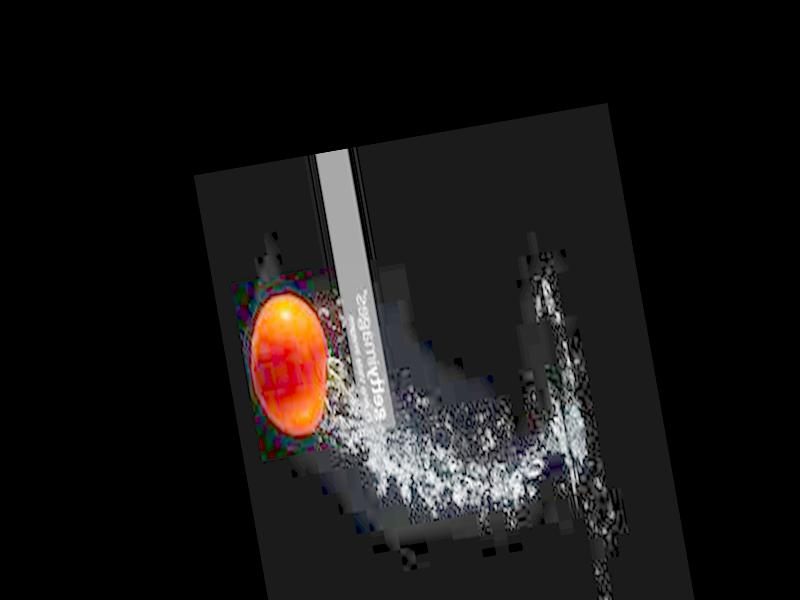Tomato: (242, 289, 341, 442)
